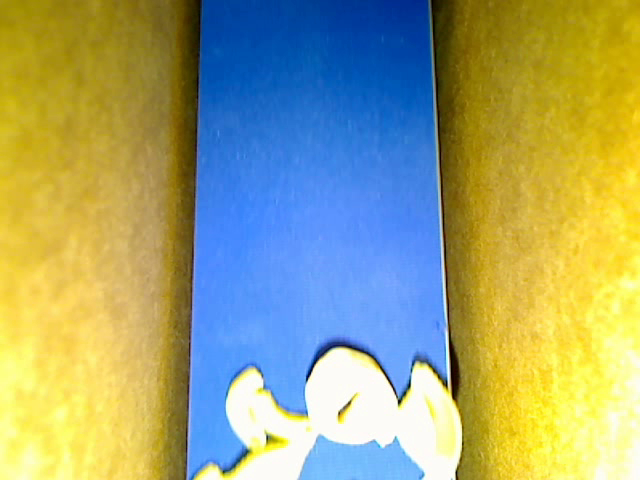elbow: (225, 362, 265, 452), (249, 389, 311, 442)
shell: (394, 361, 461, 479)
tortellini: (304, 347, 397, 447)
